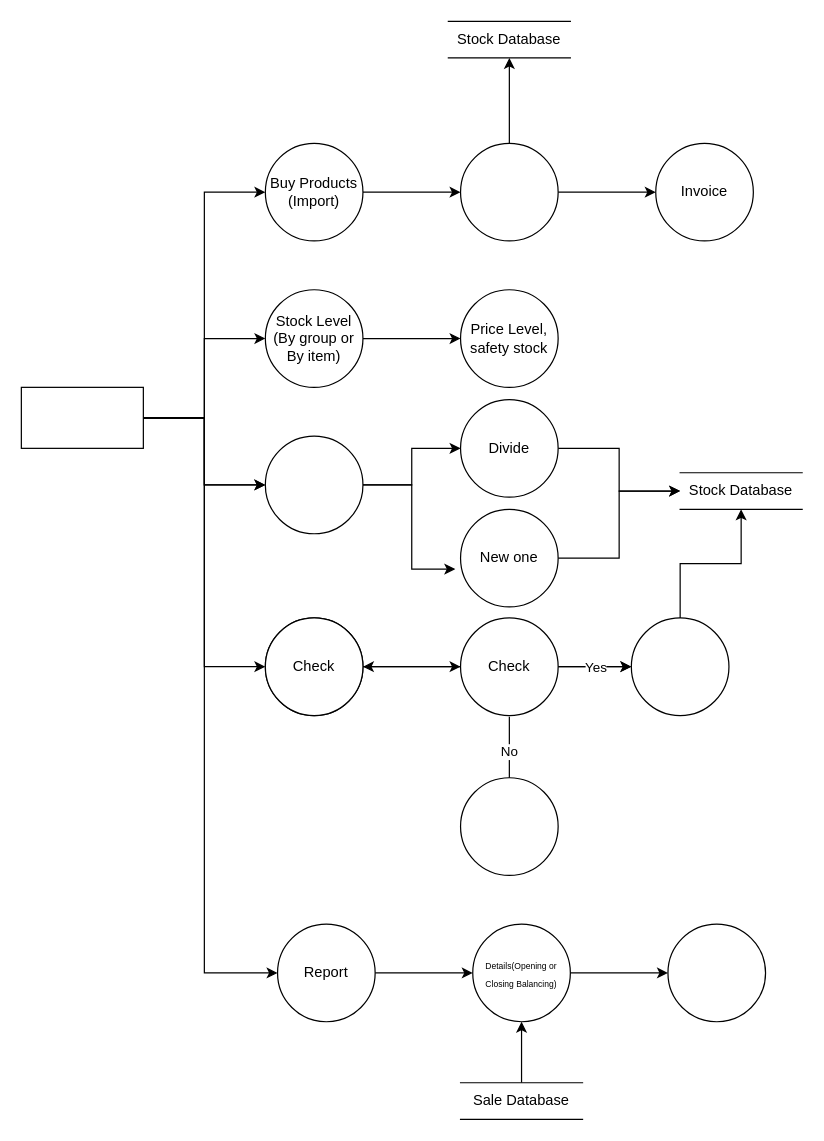
Image size: 824x1141. Some labels were removed from this diagram. The box of each missing label's shape, as (x1, y1, x2, y2) in pixels:
Admin: (20, 386, 143, 448)
Exchange Unit: (264, 435, 363, 534)
Information: (459, 142, 558, 241)
Item Total Sale & Gross Profit: (667, 923, 766, 1022)
Restore: (630, 617, 729, 716)
Return Supplier & New One: (459, 777, 558, 875)
